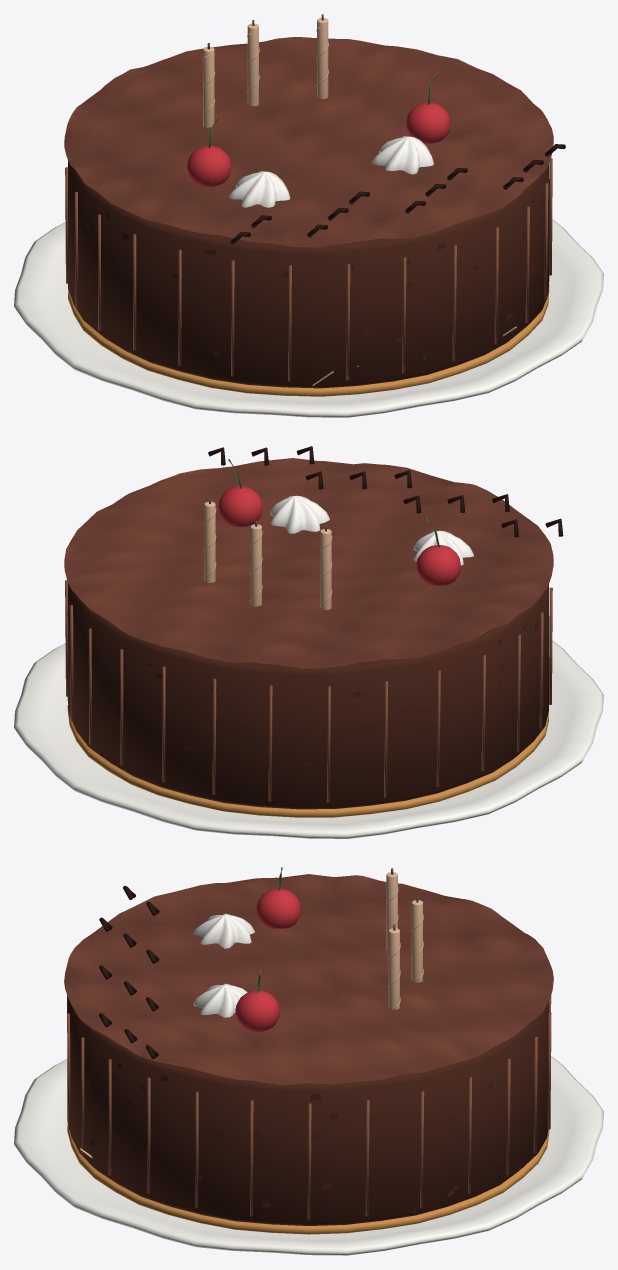
Rendered from cake-03.3507d8bc7bf3-B820RwwQ.glb.
The picture shows the model from 3 angles, top to bottom: view 1: azimuth 30°, elevation 25°; view 2: azimuth 150°, elevation 25°; view 3: azimuth 270°, elevation 25°; orthographic projection.
Parts seen in each view (by area): view 1: Irregular_hand_spread_food_surface, PART_FOOD_ROOT_MAT_cocoa, Clean_porcelain_plate, PART_FOOD_ROOT_MAT_choc_mousse, Exposed_thin_sponge_base, PART_FOOD_ROOT_MAT_cream, PART_FOOD_ROOT_MAT_strawberry, PART_FOOD_ROOT_MAT_apricot_wax, PART_FOOD_ROOT_MAT_chocolate; view 2: Irregular_hand_spread_food_surface, PART_FOOD_ROOT_MAT_cocoa, Clean_porcelain_plate, PART_FOOD_ROOT_MAT_choc_mousse, Exposed_thin_sponge_base, PART_FOOD_ROOT_MAT_strawberry, PART_FOOD_ROOT_MAT_apricot_wax, PART_FOOD_ROOT_MAT_cream, PART_FOOD_ROOT_MAT_chocolate; view 3: Irregular_hand_spread_food_surface, PART_FOOD_ROOT_MAT_cocoa, Clean_porcelain_plate, PART_FOOD_ROOT_MAT_choc_mousse, Exposed_thin_sponge_base, PART_FOOD_ROOT_MAT_strawberry, PART_FOOD_ROOT_MAT_cream, PART_FOOD_ROOT_MAT_apricot_wax, PART_FOOD_ROOT_MAT_chocolate.
Boxes of the visible parts, x1=… form: Irregular_hand_spread_food_surface: x1=64, y1=37, x2=553, y2=247; PART_FOOD_ROOT_MAT_cocoa: x1=68, y1=160, x2=550, y2=388; Clean_porcelain_plate: x1=14, y1=219, x2=603, y2=417; PART_FOOD_ROOT_MAT_choc_mousse: x1=65, y1=158, x2=552, y2=381; Exposed_thin_sponge_base: x1=68, y1=284, x2=549, y2=396; PART_FOOD_ROOT_MAT_cream: x1=228, y1=136, x2=433, y2=207; PART_FOOD_ROOT_MAT_strawberry: x1=187, y1=102, x2=450, y2=186; PART_FOOD_ROOT_MAT_apricot_wax: x1=203, y1=18, x2=328, y2=127; PART_FOOD_ROOT_MAT_chocolate: x1=230, y1=144, x2=565, y2=244; Irregular_hand_spread_food_surface: x1=64, y1=458, x2=553, y2=668; PART_FOOD_ROOT_MAT_cocoa: x1=67, y1=583, x2=549, y2=809; Clean_porcelain_plate: x1=14, y1=638, x2=603, y2=838; PART_FOOD_ROOT_MAT_choc_mousse: x1=65, y1=580, x2=552, y2=802; Exposed_thin_sponge_base: x1=67, y1=705, x2=548, y2=817; PART_FOOD_ROOT_MAT_strawberry: x1=218, y1=486, x2=461, y2=585; PART_FOOD_ROOT_MAT_apricot_wax: x1=204, y1=501, x2=331, y2=609; PART_FOOD_ROOT_MAT_cream: x1=270, y1=495, x2=473, y2=565; PART_FOOD_ROOT_MAT_chocolate: x1=208, y1=446, x2=563, y2=537; Irregular_hand_spread_food_surface: x1=64, y1=874, x2=553, y2=1085; PART_FOOD_ROOT_MAT_cocoa: x1=67, y1=996, x2=549, y2=1225; Clean_porcelain_plate: x1=14, y1=1056, x2=603, y2=1255; PART_FOOD_ROOT_MAT_choc_mousse: x1=67, y1=995, x2=551, y2=1219; Exposed_thin_sponge_base: x1=67, y1=1127, x2=549, y2=1234; PART_FOOD_ROOT_MAT_strawberry: x1=235, y1=888, x2=301, y2=1032; PART_FOOD_ROOT_MAT_cream: x1=193, y1=913, x2=254, y2=1017; PART_FOOD_ROOT_MAT_apricot_wax: x1=386, y1=872, x2=422, y2=1009; PART_FOOD_ROOT_MAT_chocolate: x1=99, y1=885, x2=159, y2=1058.
Bounding box in the file's own units: 0.1959 × 0.0894 × 0.1959.
